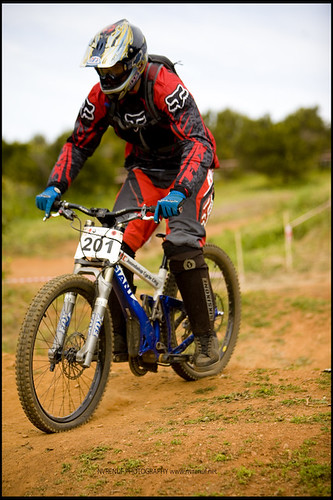helmet: (71, 15, 164, 103)
